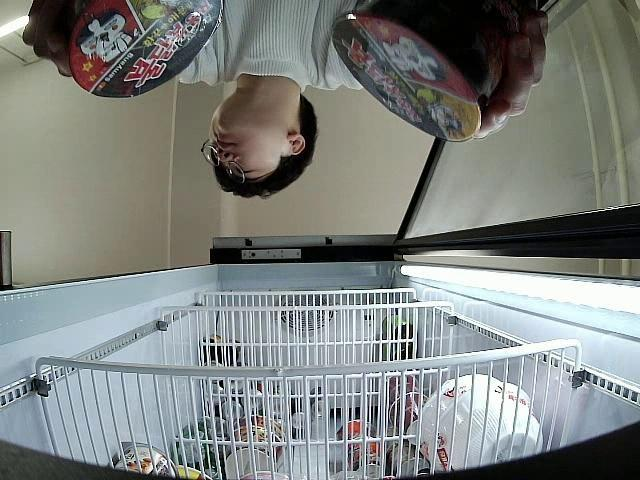08_buldak_S: (332, 0, 507, 142), (68, 0, 224, 100)
